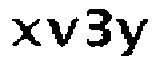3: (82, 5, 114, 50)
v: (43, 16, 80, 47)
x: (9, 14, 43, 49)
y: (116, 14, 151, 59)
